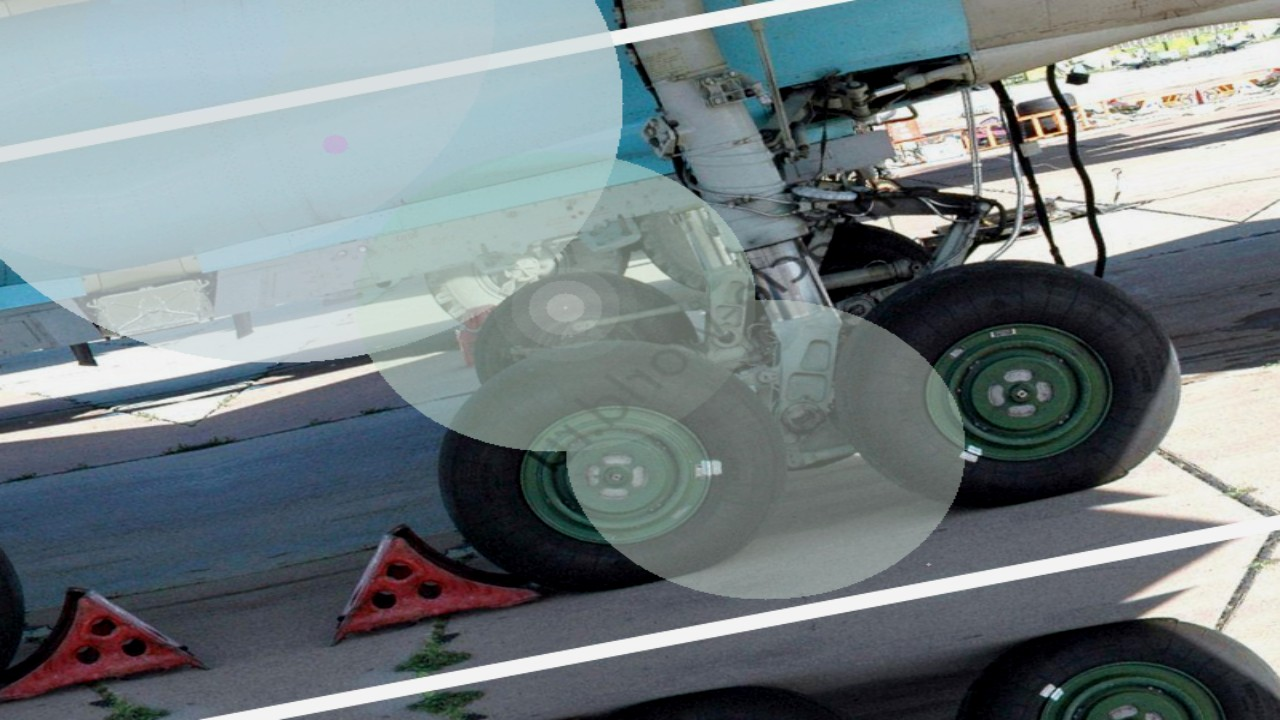chock: (293, 501, 547, 647), (0, 565, 212, 711)
wheel: (794, 229, 1218, 533), (397, 310, 816, 617), (917, 593, 1280, 720), (449, 254, 701, 387), (797, 207, 948, 305)
